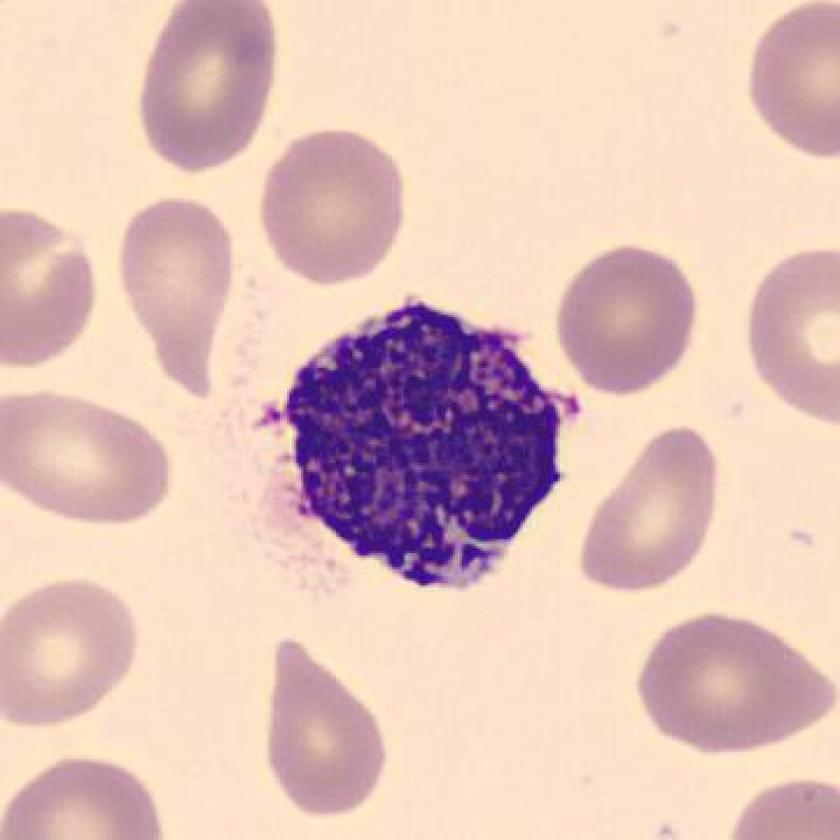basophil: (272, 302, 582, 605)
